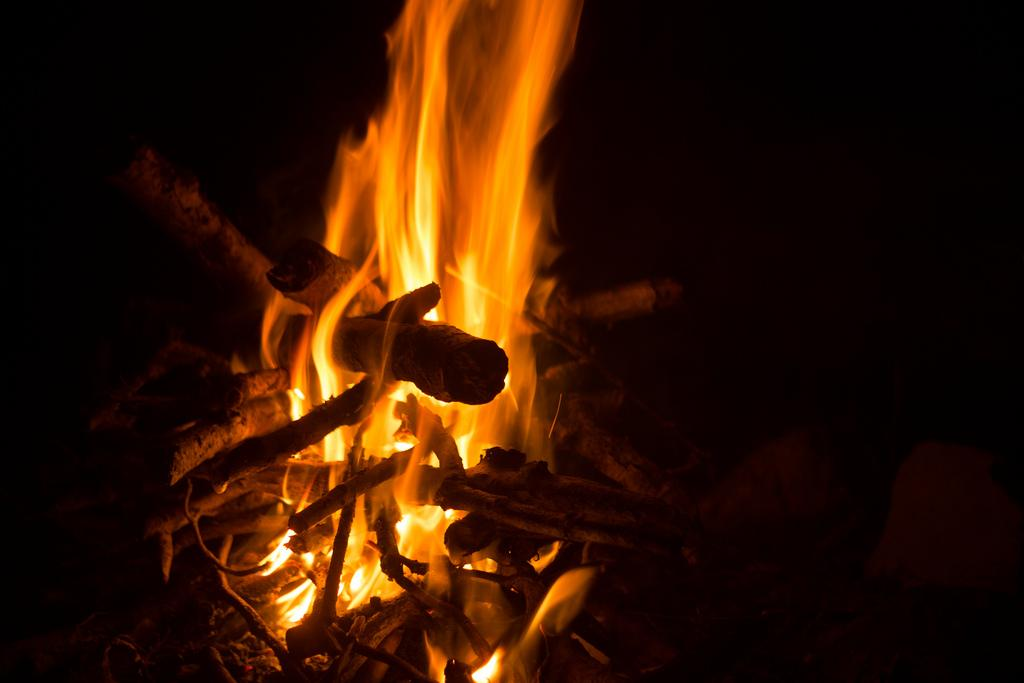fire: (413, 145, 532, 325), (343, 157, 413, 278)
